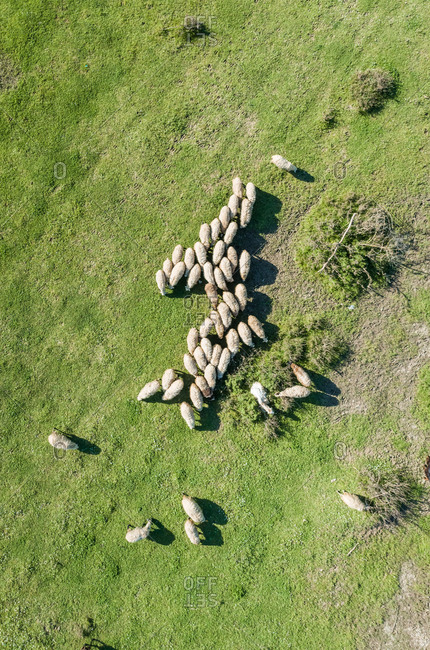sheep: (179, 493, 206, 526), (289, 360, 315, 389), (335, 490, 369, 512), (124, 521, 155, 544), (135, 379, 163, 403), (249, 313, 270, 343), (47, 431, 77, 451), (182, 518, 201, 547), (254, 380, 272, 410), (222, 290, 240, 320), (270, 154, 298, 173), (239, 197, 255, 229), (216, 300, 232, 331), (279, 383, 308, 400), (184, 262, 201, 291), (180, 247, 196, 277), (188, 380, 204, 409), (204, 362, 218, 395), (239, 249, 253, 281), (167, 377, 184, 403), (193, 241, 209, 268), (185, 326, 199, 356), (234, 282, 248, 312), (219, 256, 234, 284), (224, 220, 239, 248), (193, 345, 209, 371), (202, 260, 217, 287), (213, 266, 229, 291), (195, 375, 213, 397), (181, 401, 195, 429), (210, 310, 224, 338), (225, 246, 239, 274), (204, 282, 219, 308), (170, 261, 185, 287), (182, 353, 198, 377), (218, 347, 230, 379), (218, 205, 231, 234), (230, 175, 245, 200), (226, 327, 239, 355), (211, 241, 226, 265), (160, 369, 177, 389), (199, 222, 211, 250), (227, 195, 240, 220), (200, 315, 214, 338), (210, 342, 222, 368), (246, 181, 258, 207), (240, 321, 252, 346), (210, 217, 222, 241), (155, 270, 166, 296), (171, 243, 183, 264), (162, 257, 173, 277)
